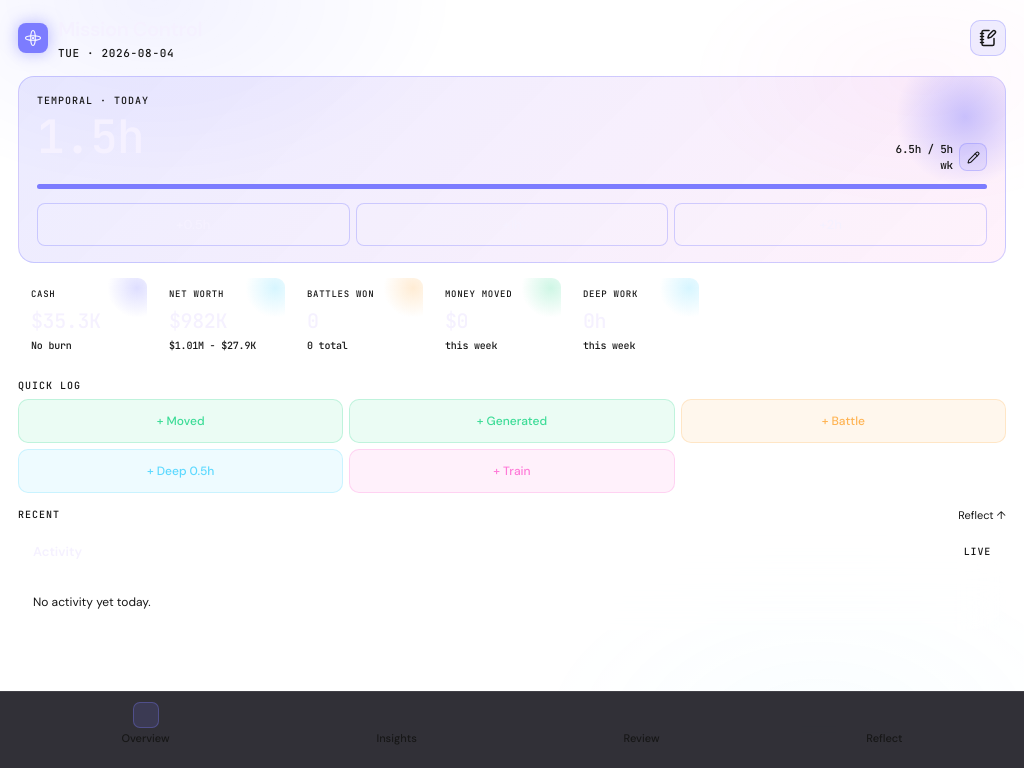
Test: <MobileLayout /> › hero goal editor stays open and shows the server error when submit rejects
Click the button with test id "mobile-temporal-edit-goal". click: (973,157)
box: x1=959 y1=143 x2=987 y2=171
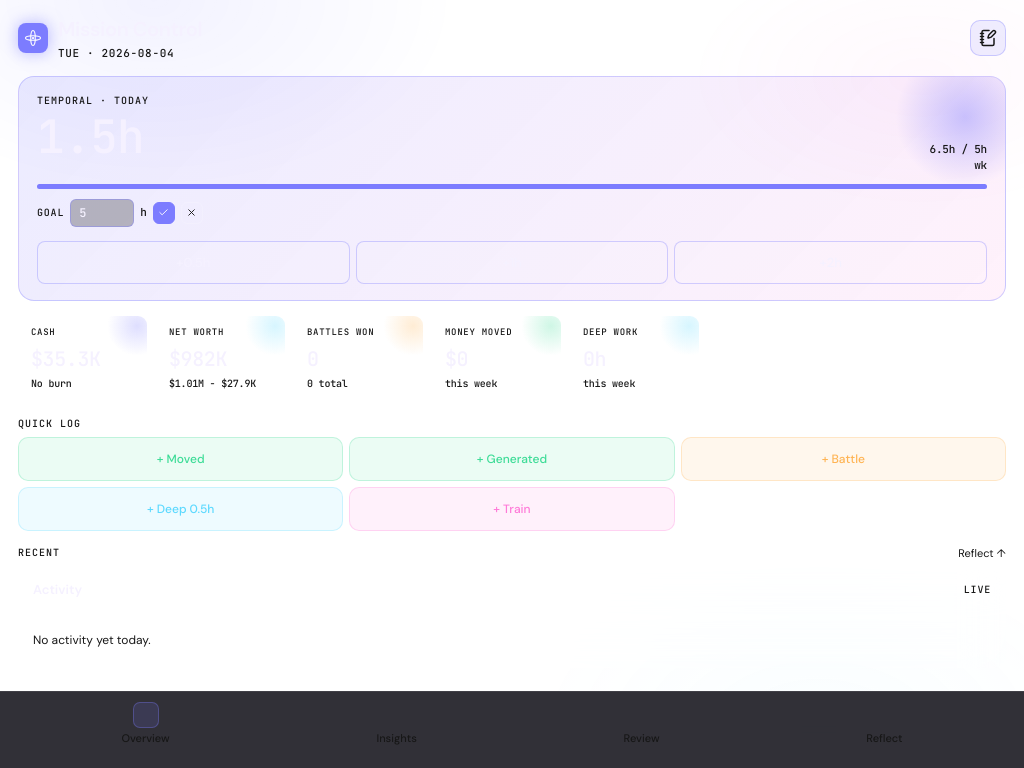
Replace the text in the field with test id "mobile-temporal-goal-editor-input" with "7". click: (102,212)
box: x1=70 y1=198 x2=134 y2=226
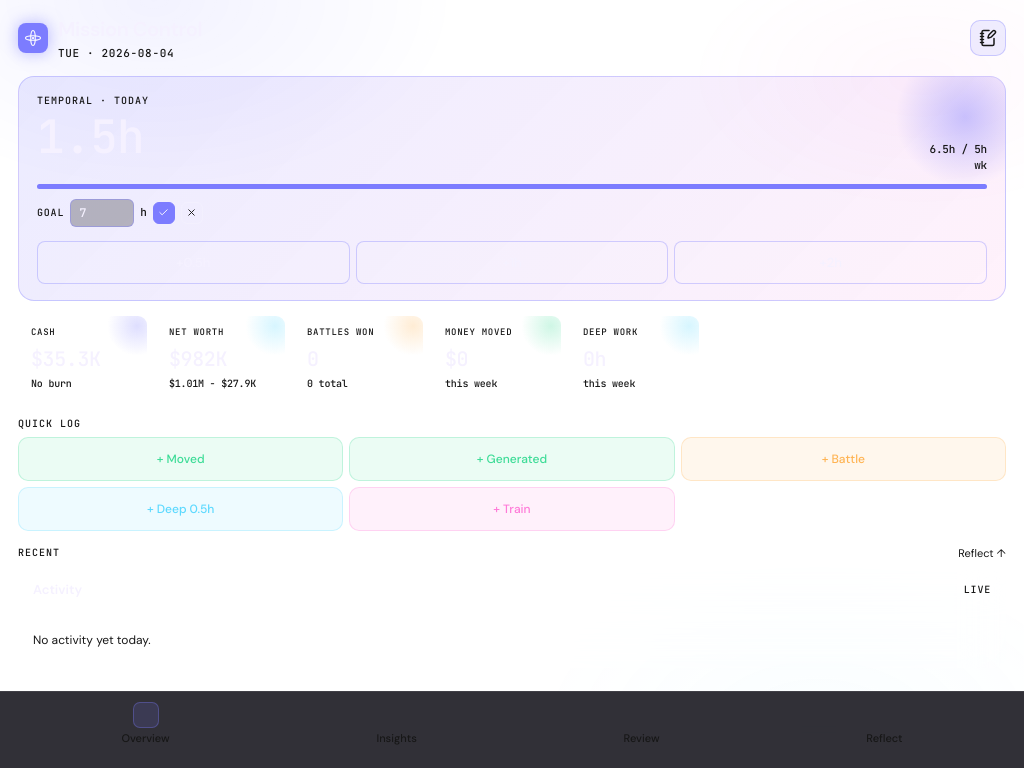
Press Enter
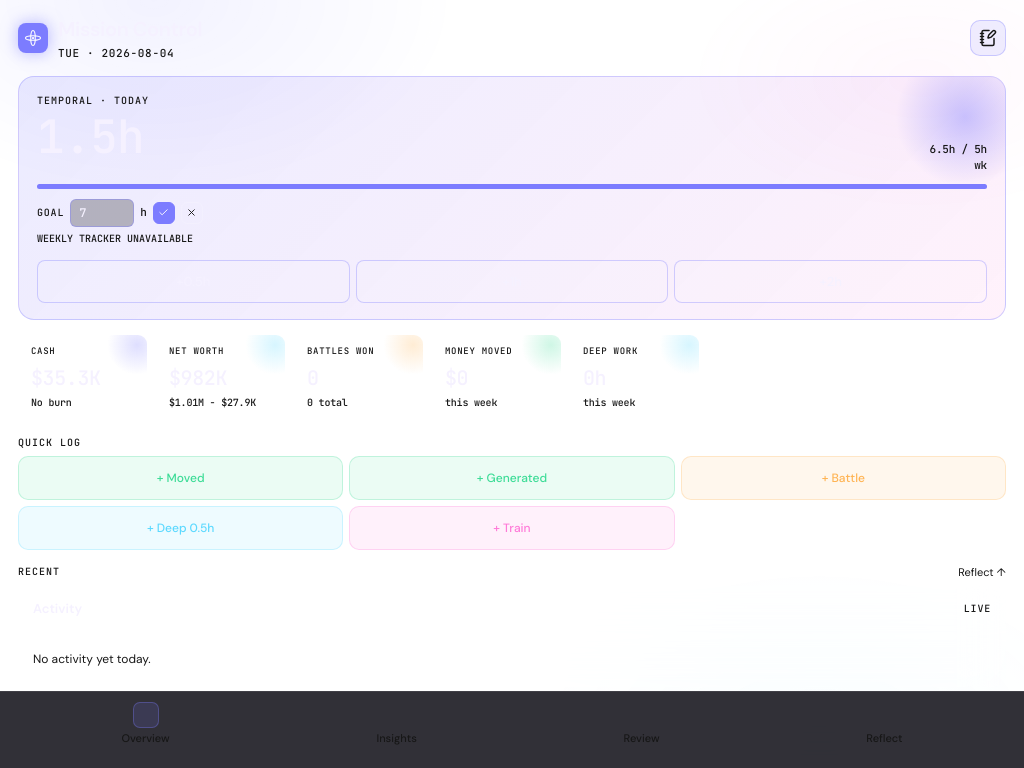
Check: the element with test id "mobile-temporal-goal-editor-row" is shown, box x1=37 y1=198 x2=203 y2=244
Check: the message with test id "mobile-temporal-goal-editor-error" reads "weekly tracker unavailable", box x1=37 y1=232 x2=193 y2=244
